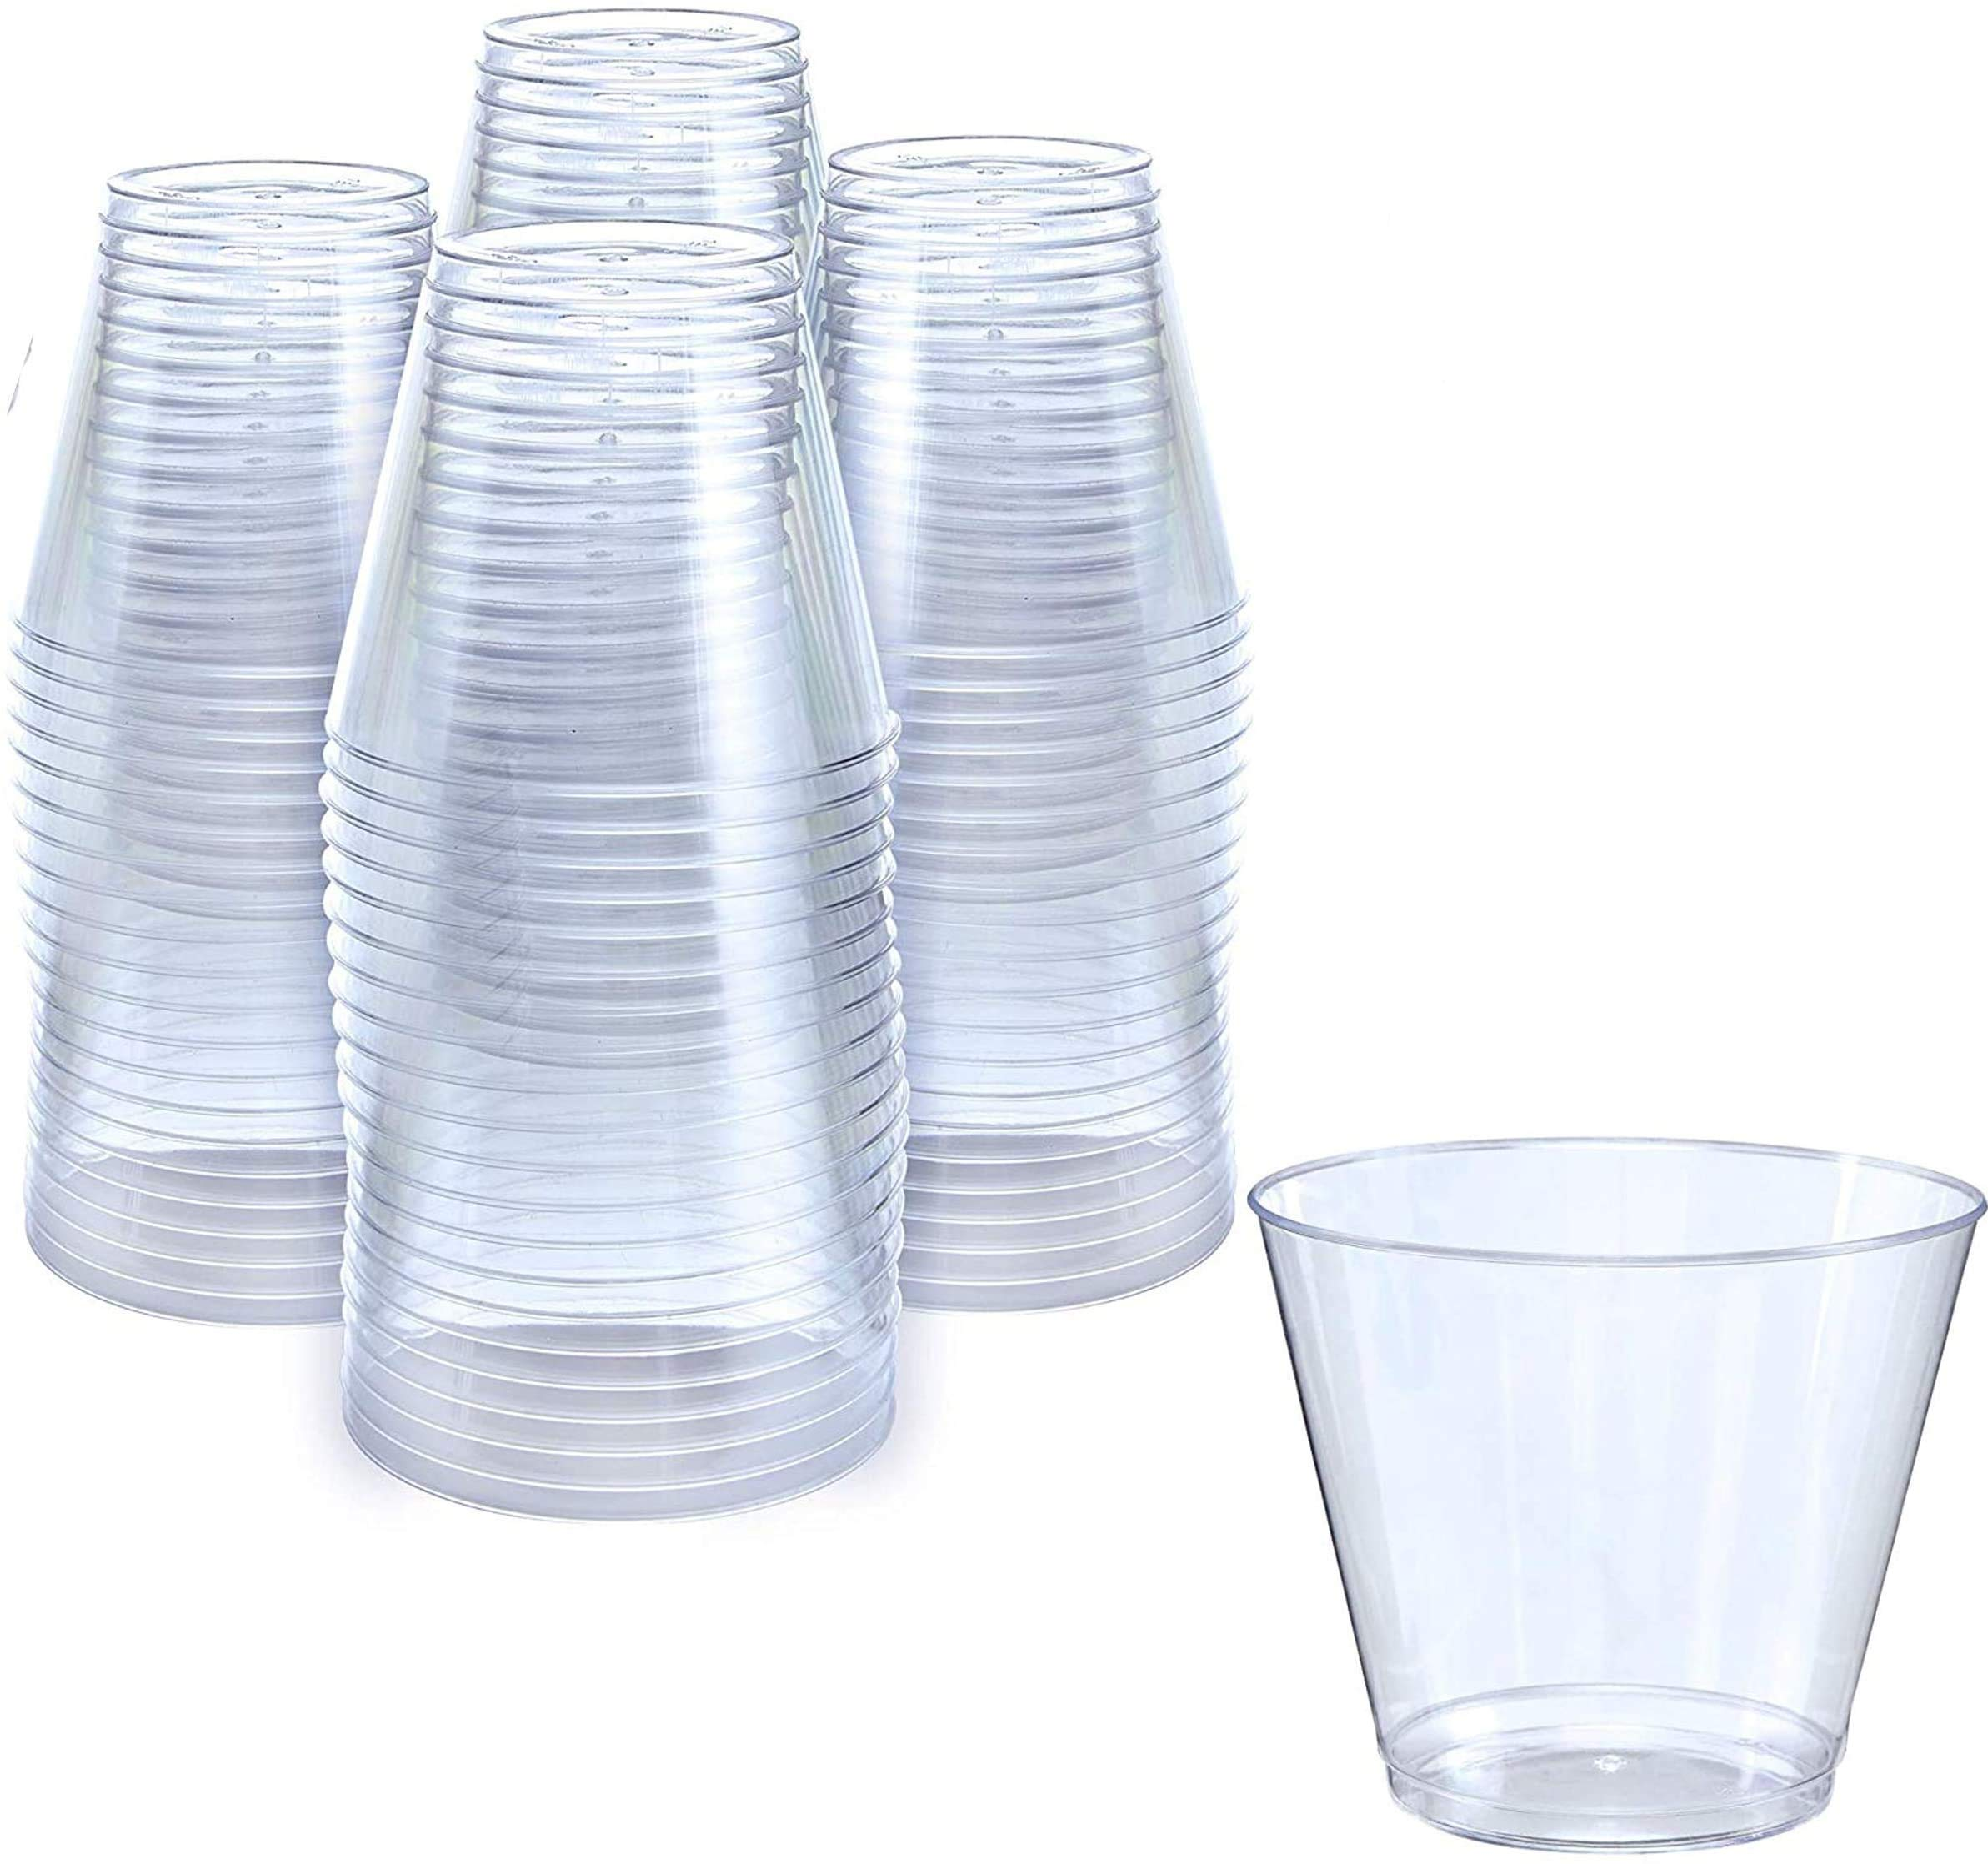plastic_glass: (1244, 1121, 1988, 1864)
